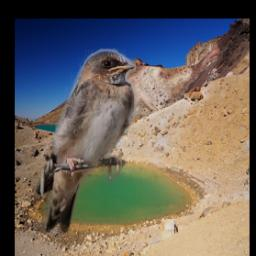Swallow: (33, 48, 136, 233)
